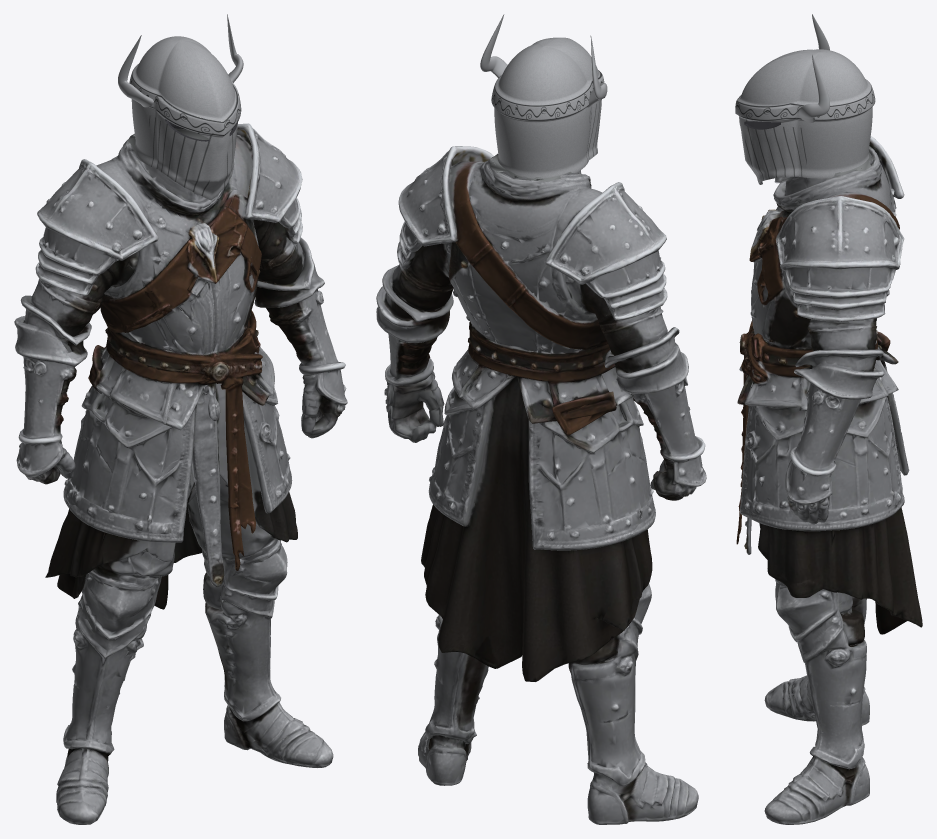
Rendered from knight-lab.glb.
The picture shows the model from 3 angles, left to right: view 1: azimuth 30°, elevation 25°; view 2: azimuth 150°, elevation 25°; view 3: azimuth 270°, elevation 25°; orthographic projection. The views are drawn at different scales.
Visible parts, largest first — view 1: tripo_node_bf2c809a_tripo_mat_bf2c809a_0, Helmet; view 2: tripo_node_bf2c809a_tripo_mat_bf2c809a_0, Helmet; view 3: tripo_node_bf2c809a_tripo_mat_bf2c809a_0, Helmet.
Part boxes in pixels (left/top/right/bottom): tripo_node_bf2c809a_tripo_mat_bf2c809a_0: left=14, top=123, right=347, bottom=824; Helmet: left=118, top=14, right=243, bottom=200; tripo_node_bf2c809a_tripo_mat_bf2c809a_0: left=376, top=146, right=706, bottom=824; Helmet: left=480, top=14, right=607, bottom=178; tripo_node_bf2c809a_tripo_mat_bf2c809a_0: left=736, top=136, right=922, bottom=824; Helmet: left=735, top=14, right=875, bottom=184.
Size of the model in its own units: 0.4434 by 1.01 by 0.2352.
Materials: 3 (2 with a texture image).
